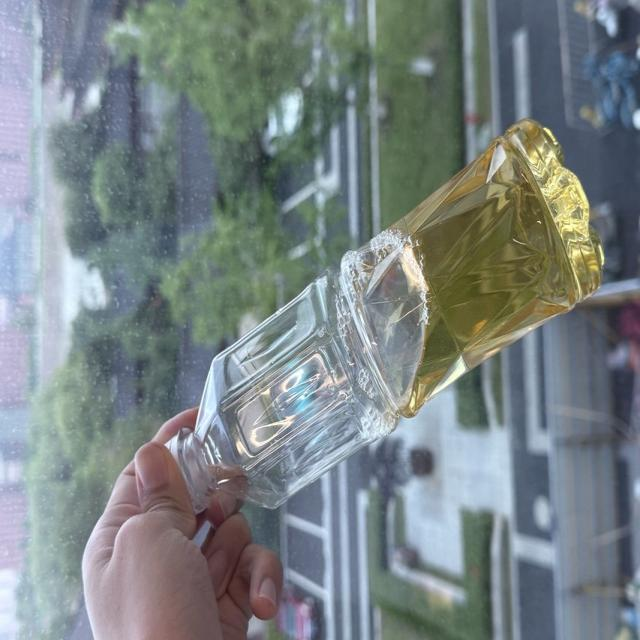medium: (169, 119, 602, 510)
